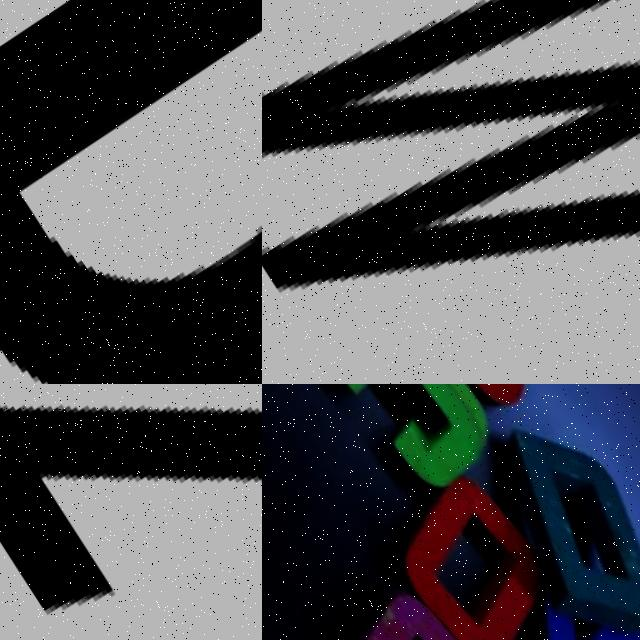C: (277, 384, 498, 501)
D: (0, 0, 262, 384), (469, 396, 640, 640)
G: (326, 571, 548, 640)
O: (358, 457, 573, 640)
W: (262, 0, 640, 384)
Z: (0, 384, 262, 640)
